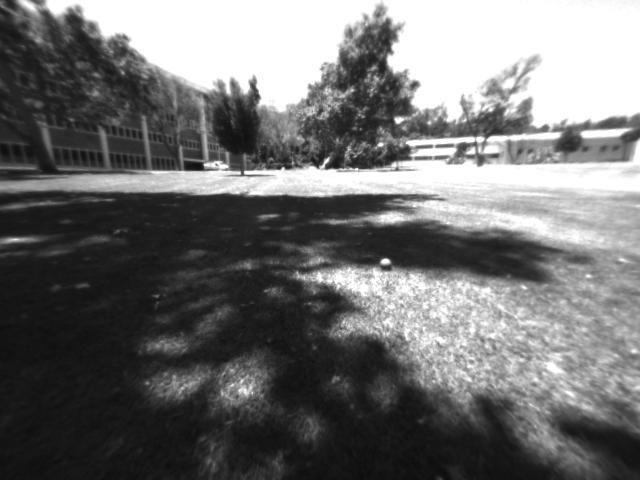dogtoy: (374, 254, 397, 270)
